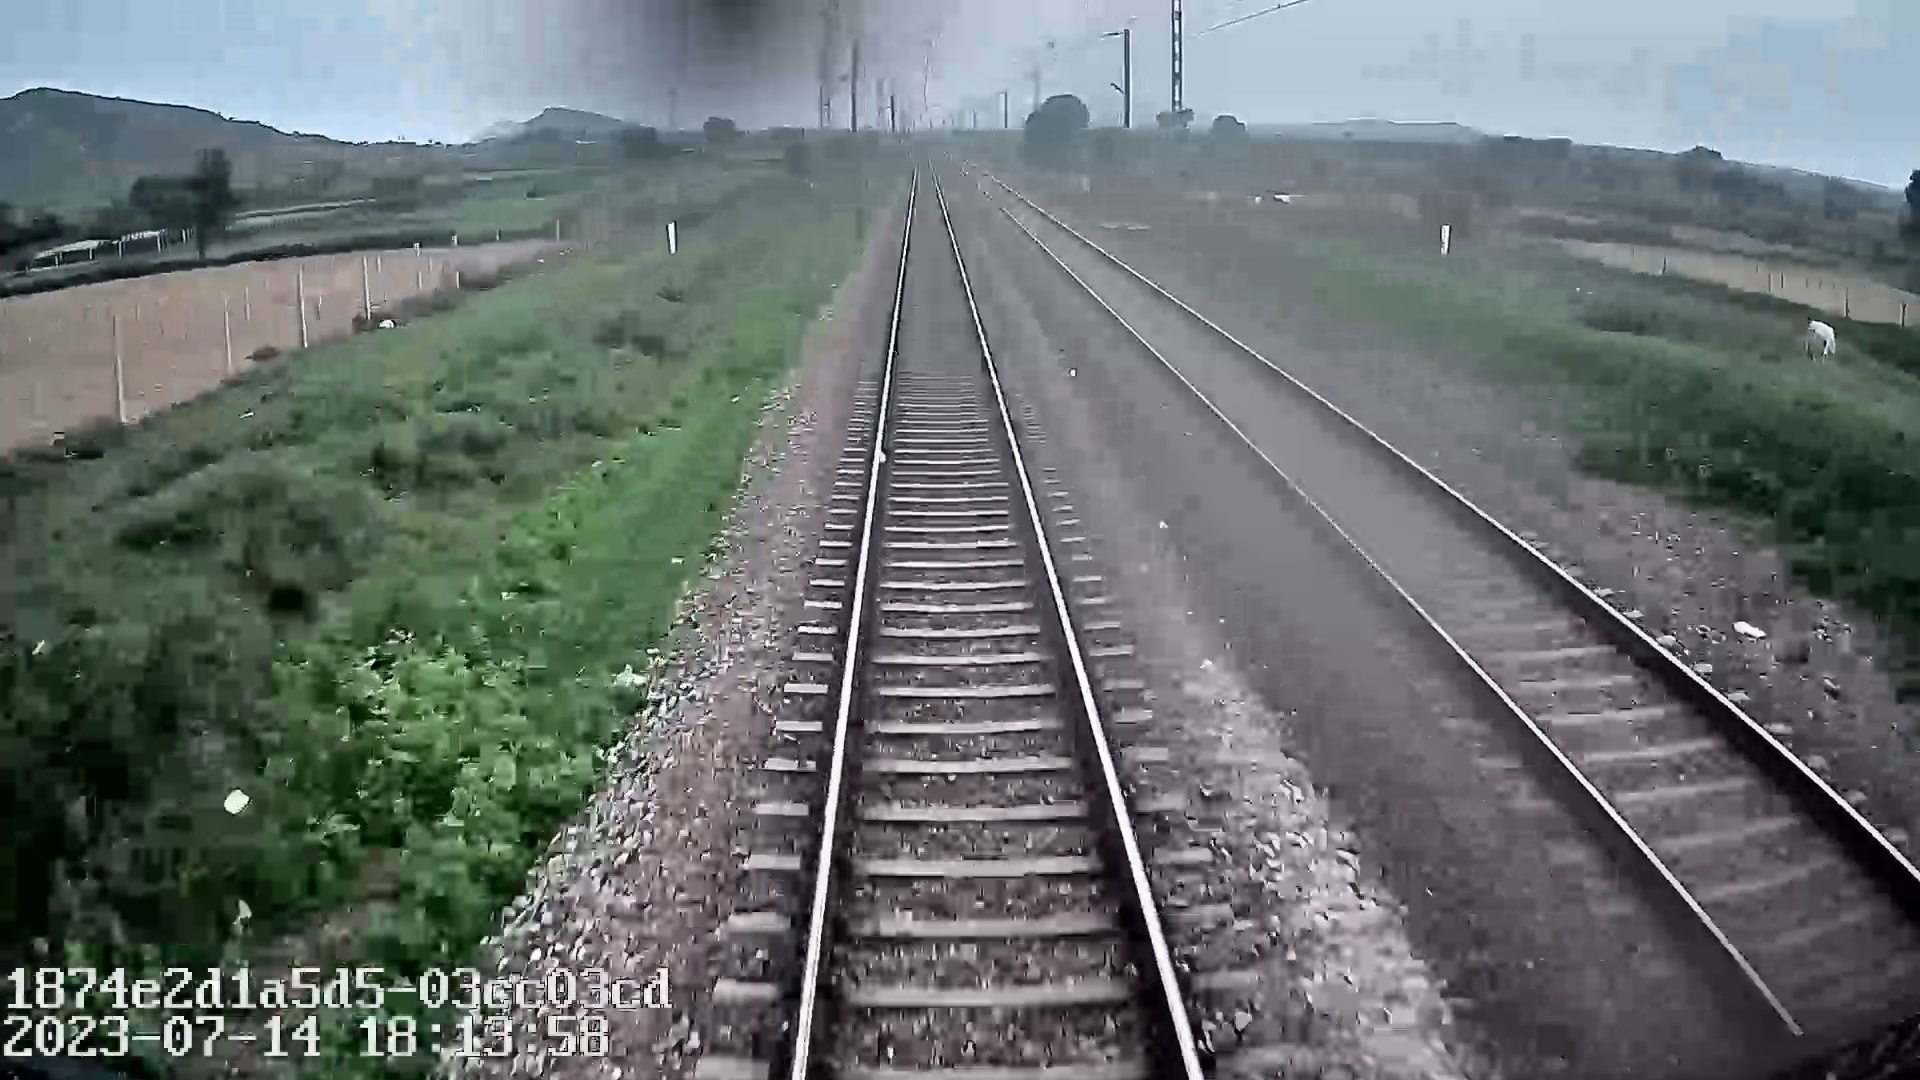track1: (801, 175, 1193, 1072)
track2: (998, 197, 1919, 1032)
